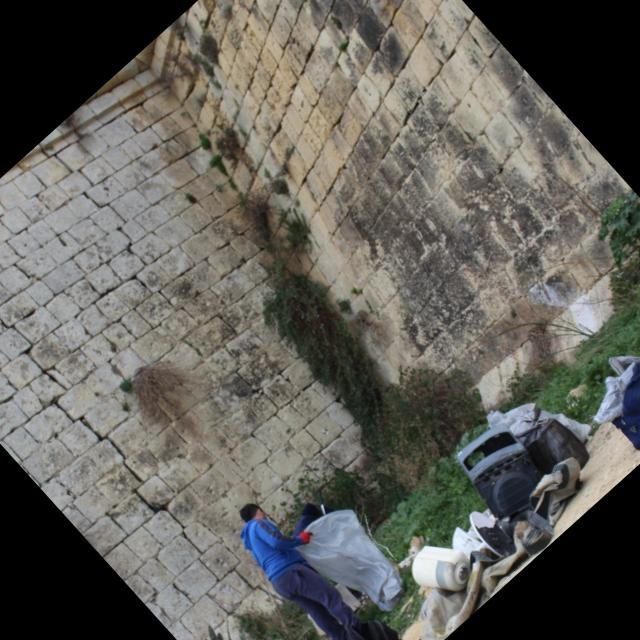Other litter: (418, 456, 583, 640), (457, 424, 546, 517), (411, 543, 471, 591)
Other plastic: (334, 581, 363, 612), (306, 612, 326, 635)
Plastic bag - wrapper: (298, 509, 407, 612), (489, 399, 594, 444), (524, 414, 592, 473)
